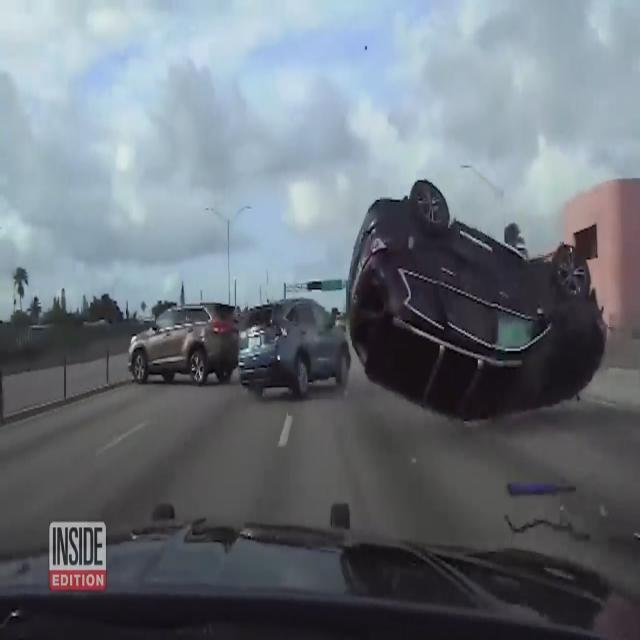accident: (340, 173, 605, 411)
